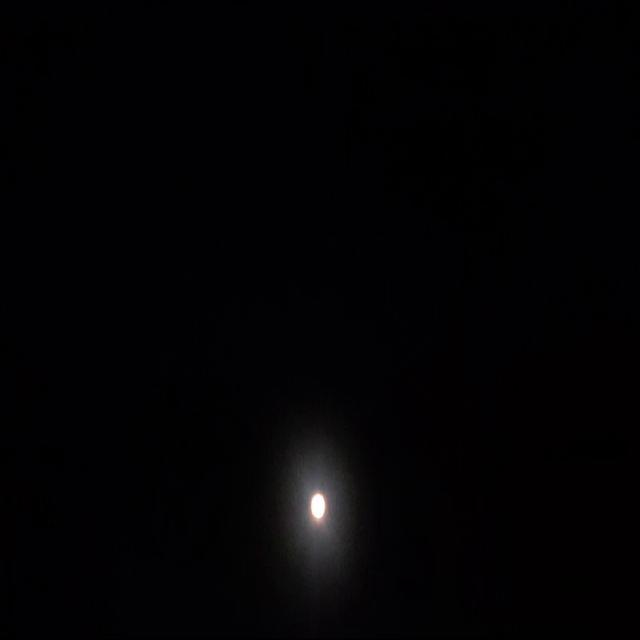moon: (316, 498, 338, 532)
